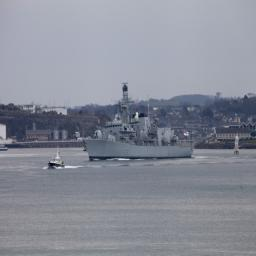Fragata: (83, 83, 198, 164)
